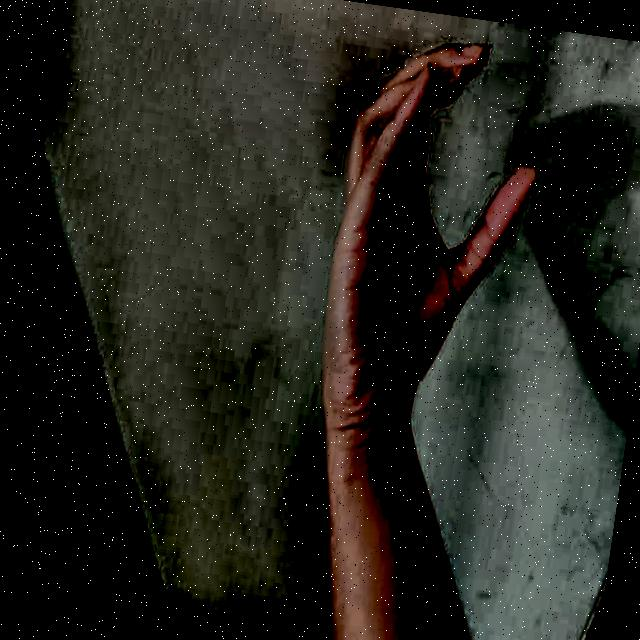A: (288, 8, 568, 476)
